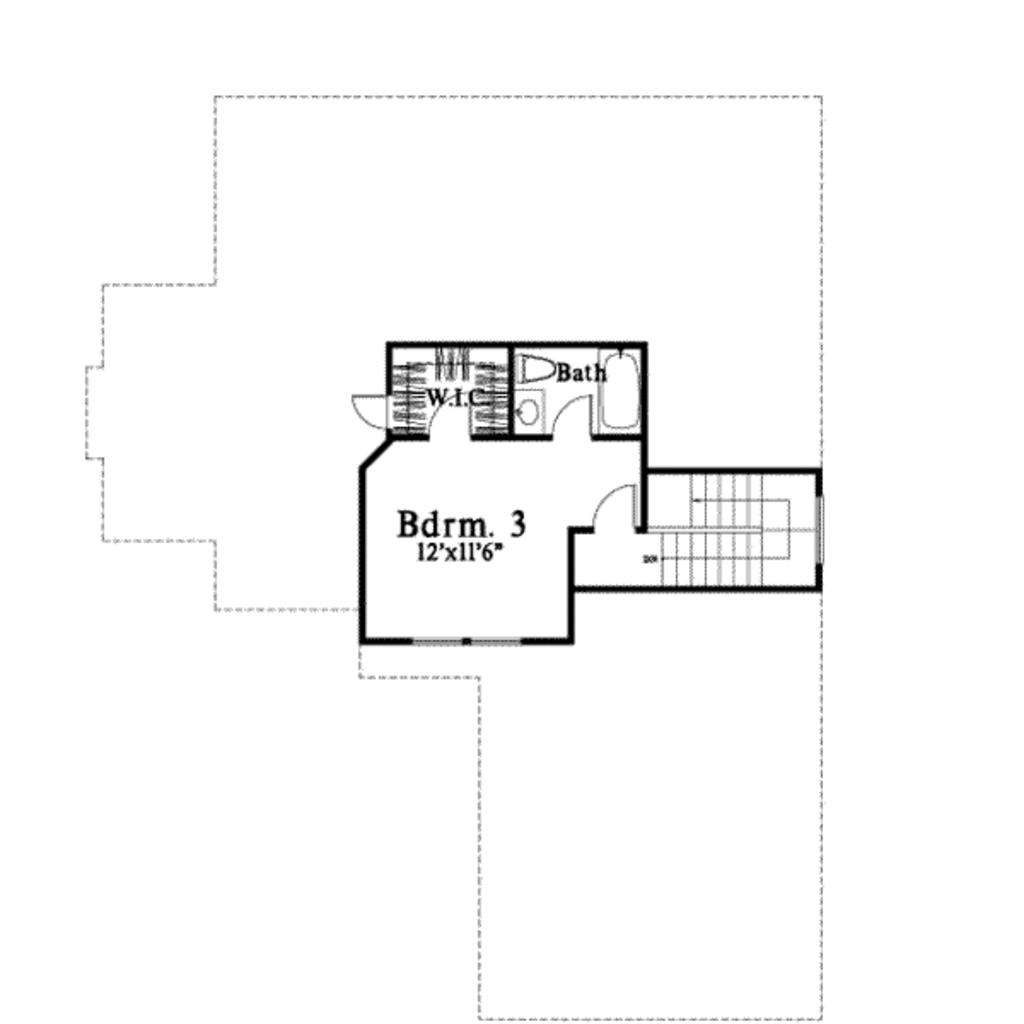door: (575, 477, 644, 539), (427, 389, 477, 447), (344, 388, 400, 435), (552, 385, 595, 442)
large_sink: (516, 342, 584, 386)
small_sink: (516, 389, 541, 433)
stairs: (644, 475, 814, 600)
tub: (595, 344, 644, 449)
window: (477, 632, 528, 652), (419, 628, 470, 647)
